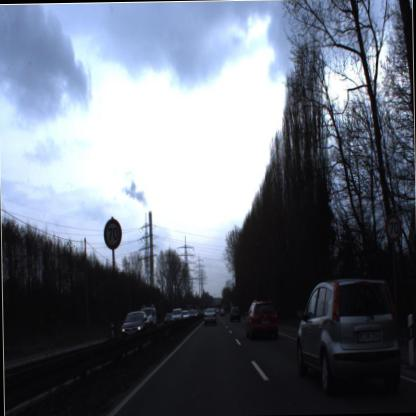prohibitory: (100, 214, 123, 252)
